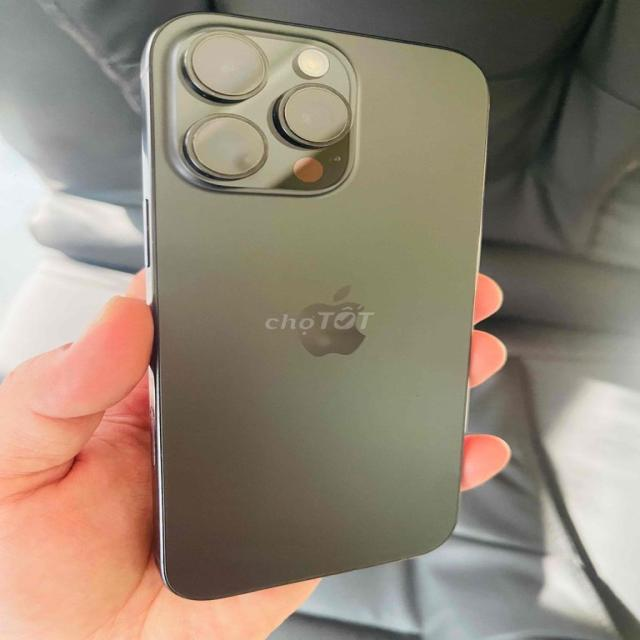gen_16: (141, 13, 488, 599)
